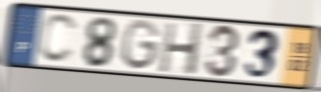3: (242, 27, 284, 82), (203, 23, 241, 80)
8: (83, 15, 118, 69)
C: (37, 12, 80, 66)
G: (120, 18, 162, 73)
H: (157, 21, 206, 78)
